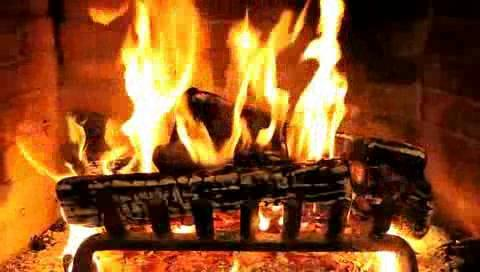fire: (20, 4, 480, 184)
